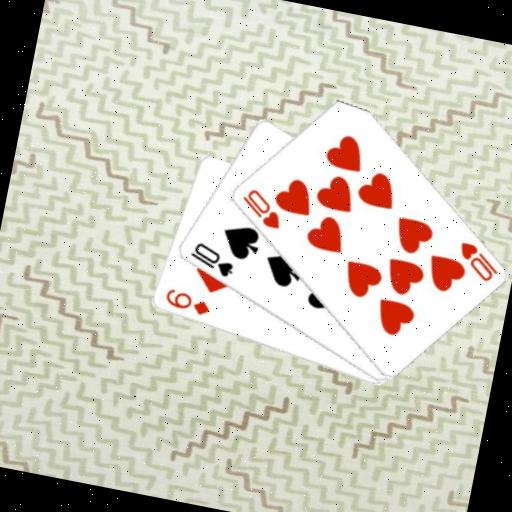10H: (235, 184, 288, 232), (451, 238, 504, 286)
10S: (183, 238, 239, 281)
6D: (160, 285, 214, 319)
